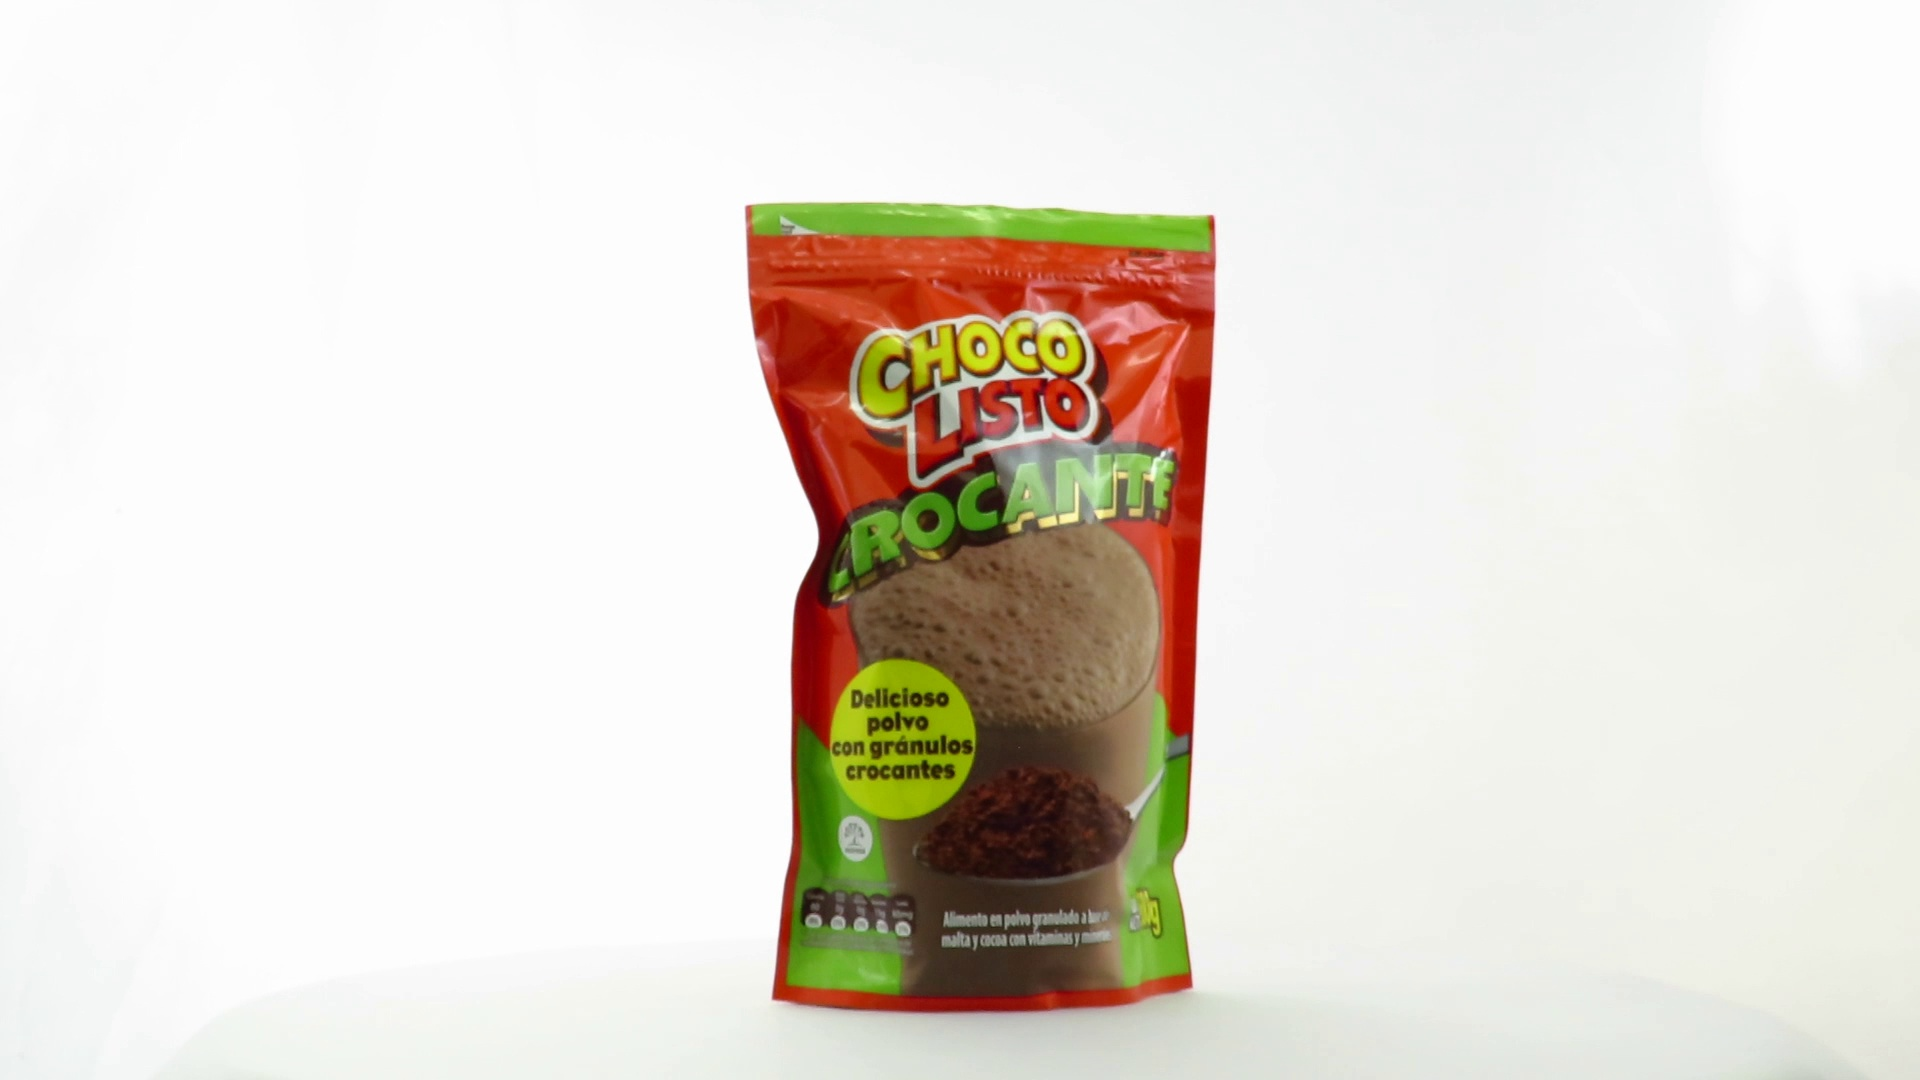COL0170102DYP50000: (740, 196, 1222, 1021)
